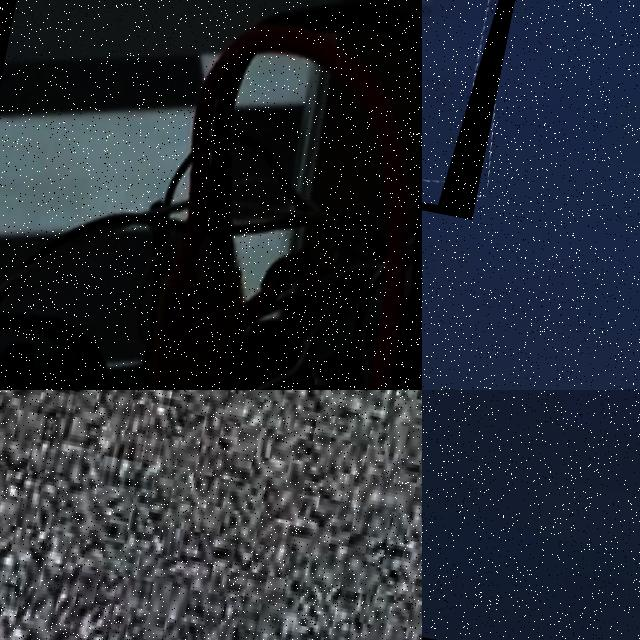0: (422, 0, 543, 220)
drone: (0, 0, 422, 390)
